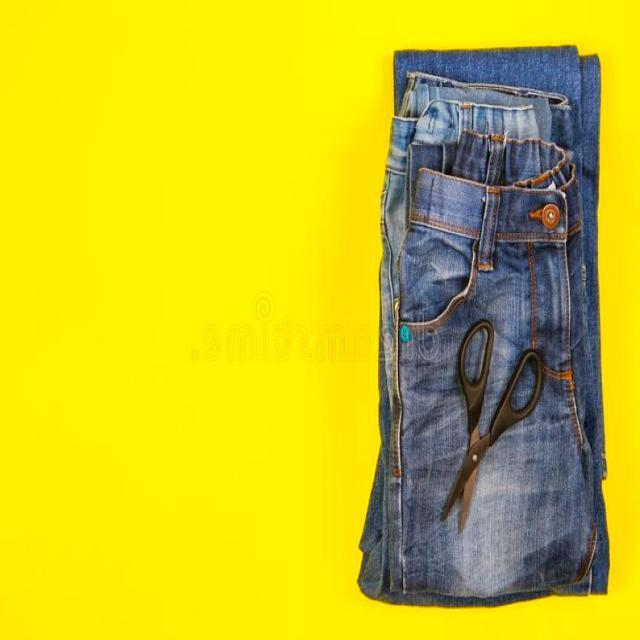clothes: (374, 74, 596, 588)
